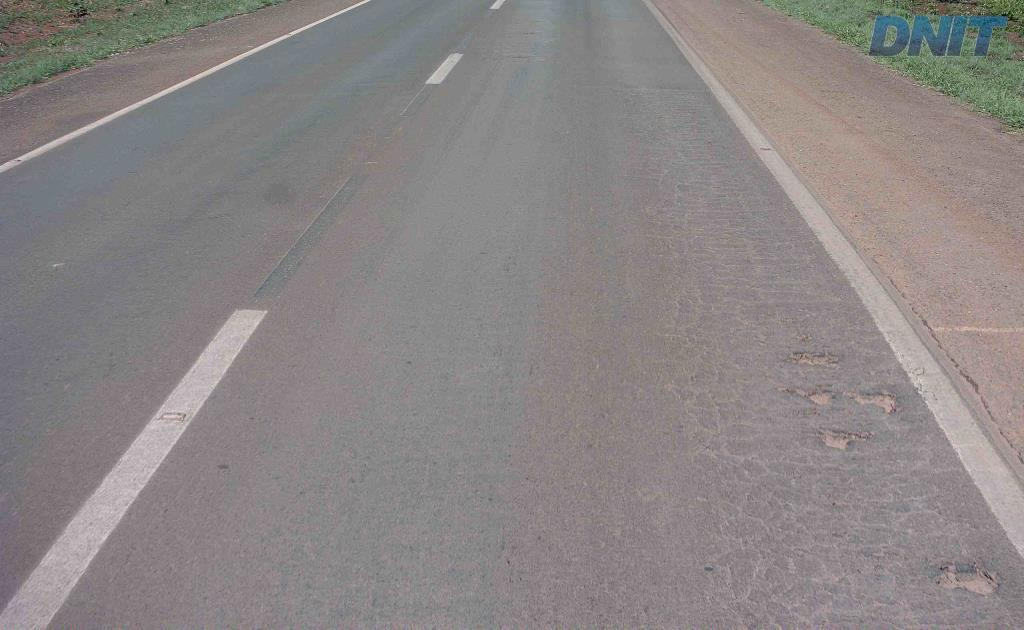pothole: (927, 554, 1010, 603), (845, 383, 900, 417), (785, 347, 847, 375), (812, 422, 867, 449), (782, 381, 838, 406)
